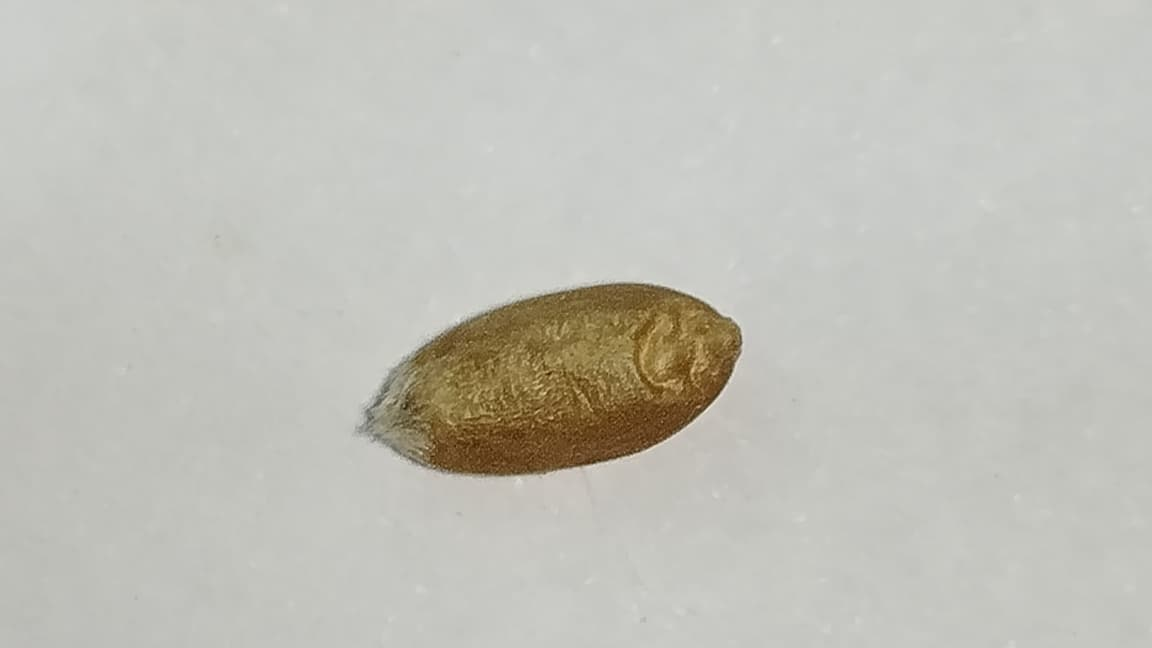healthy: (363, 280, 742, 474)
